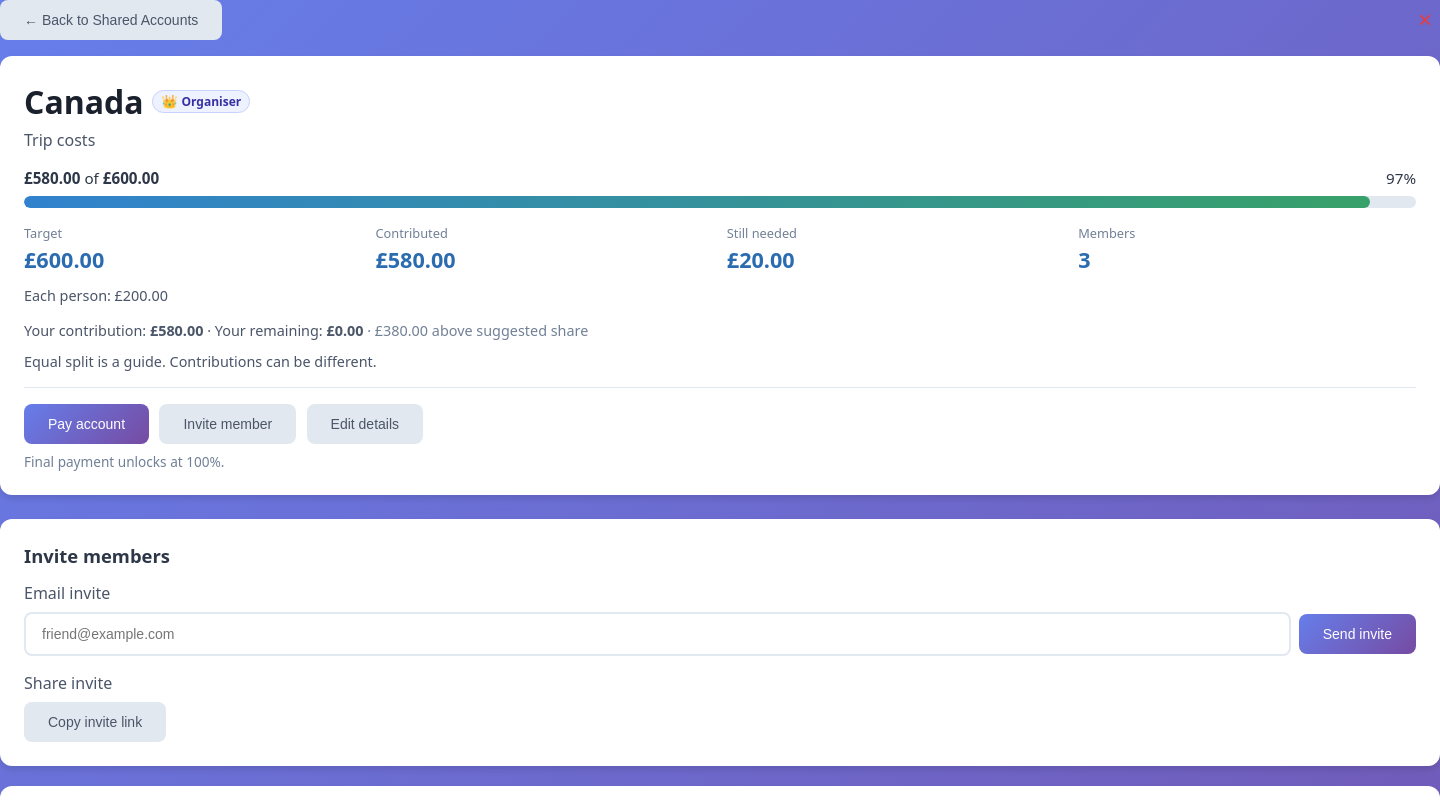
Test: SharedAccountDetail Pay account › still blocks a contribution that would exceed the Shared Account target
Click the button "Pay account".
click(87, 424)  # box [24,404,149,444]
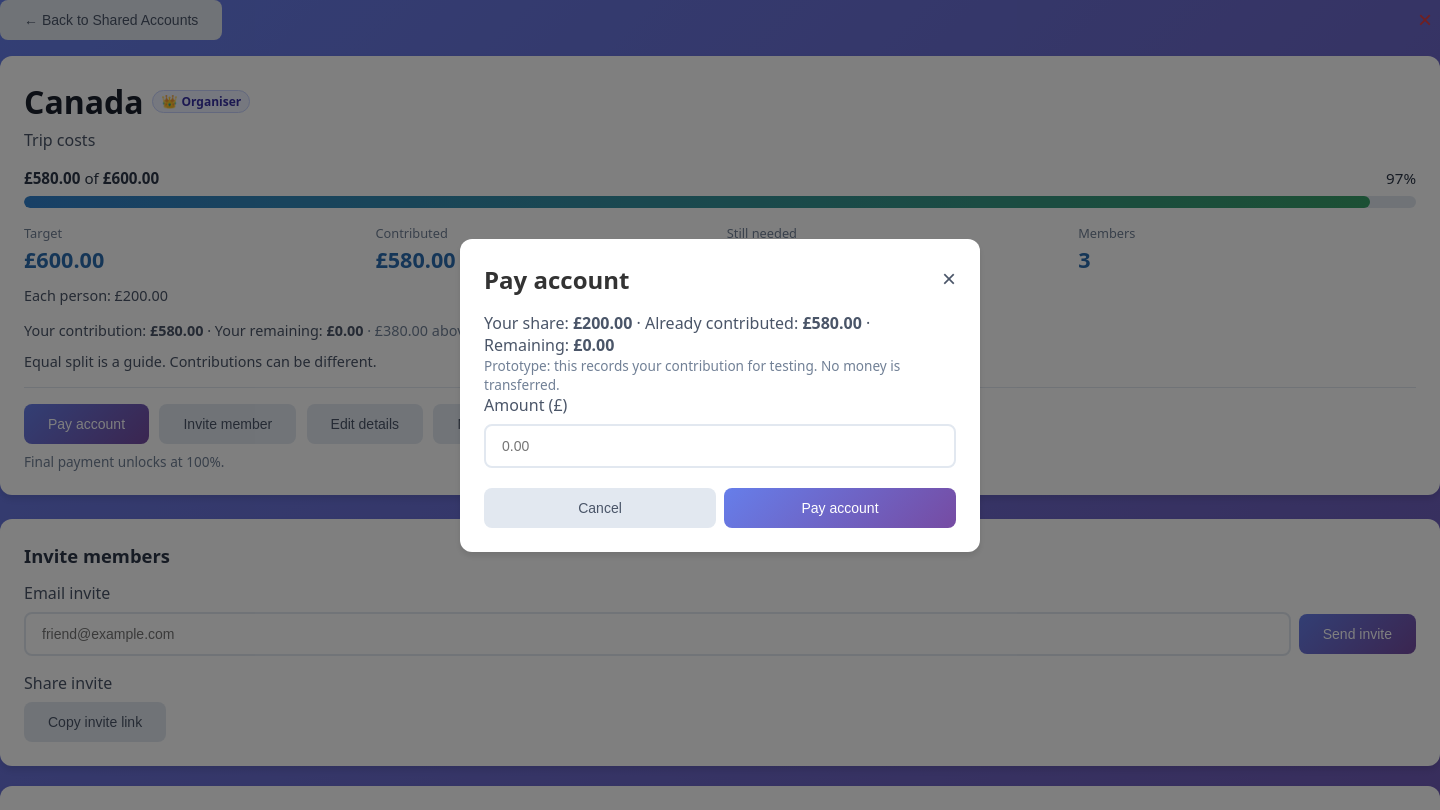
Type "50" into the number field labelled "Amount (£)".
click(720, 446); type("50")  # box [484,424,956,468]
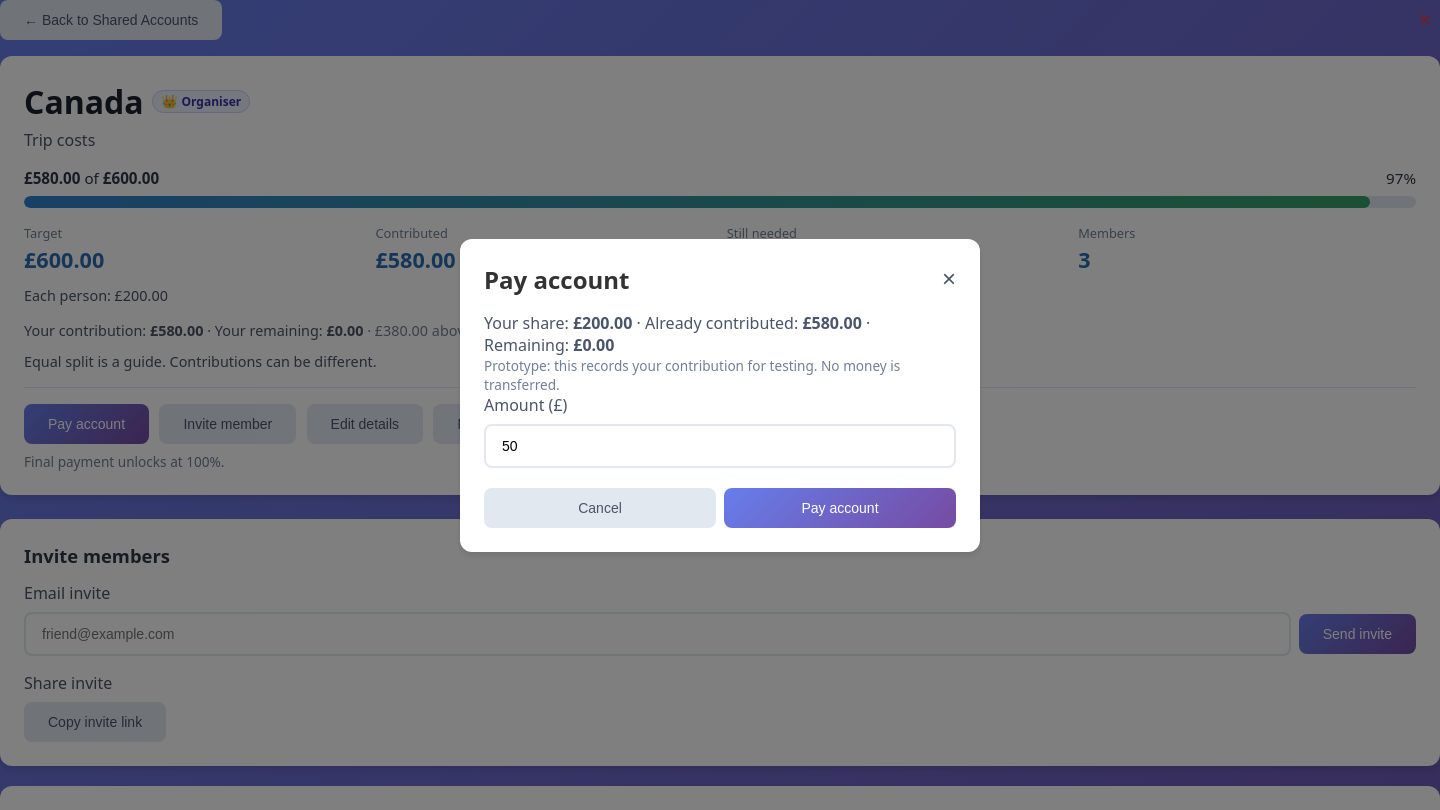
Submit the form labelled "Amount (£) Cancel Pay account", box [484,394,956,528]
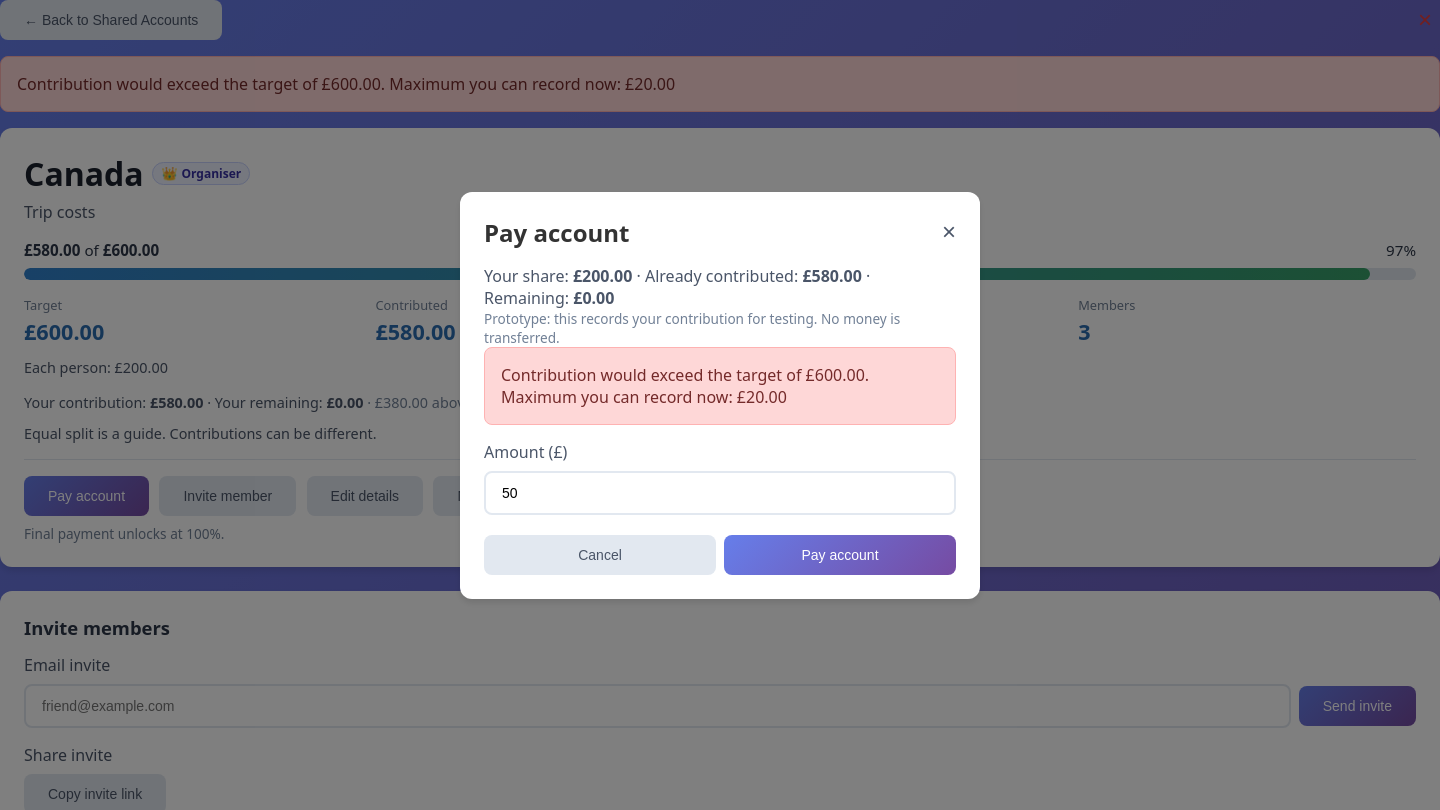
Now the 1st text "maximum you can record now: £20.00" is shown, box [17,73,675,95]
